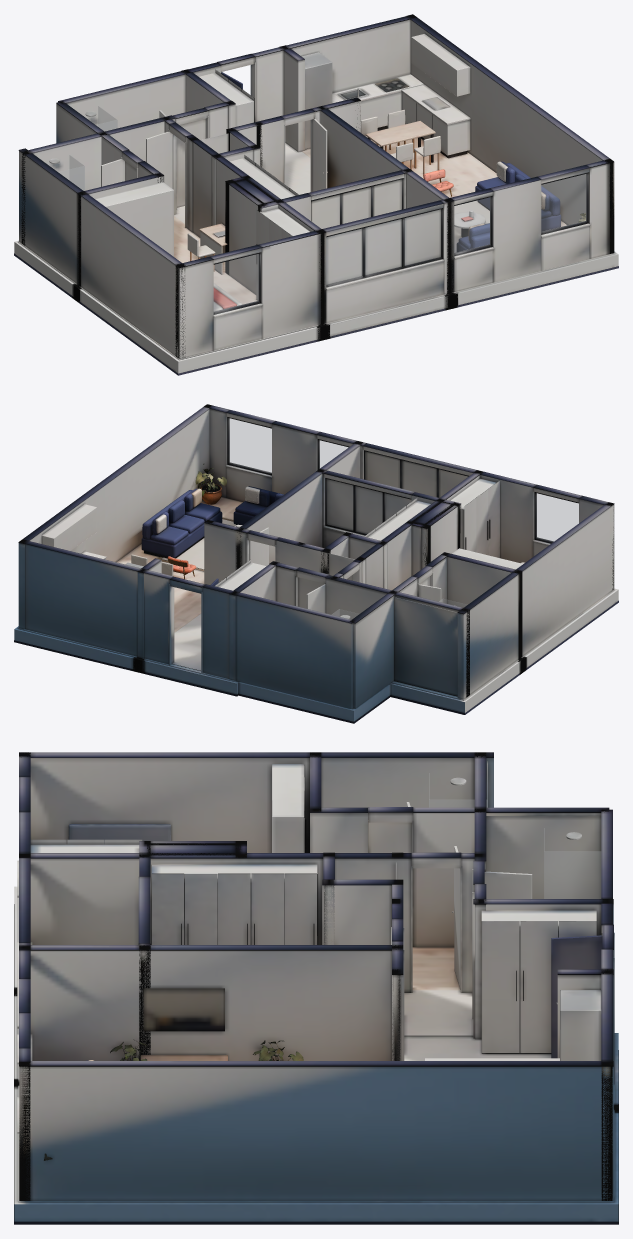
3 views of the same model, one above another, from view 1: azimuth 30°, elevation 25°; view 2: azimuth 150°, elevation 25°; view 3: azimuth 270°, elevation 25° (orthographic). The views are drawn at different scales.
Visible parts, largest first — view 1: plan, glass1_m, glass4_m, glass2_m, glass3_m; view 2: plan, glass0_m, glass4_m, glass2_m; view 3: plan, sg.002_m.
Part boxes in pixels (bbox=[...]): plan: bbox=[14, 14, 618, 375]; glass1_m: bbox=[327, 210, 440, 284]; glass4_m: bbox=[541, 174, 586, 231]; glass2_m: bbox=[214, 254, 258, 311]; glass3_m: bbox=[454, 197, 490, 253]; plan: bbox=[14, 404, 618, 723]; glass0_m: bbox=[327, 480, 410, 533]; glass4_m: bbox=[229, 418, 271, 472]; glass2_m: bbox=[536, 493, 578, 541]; plan: bbox=[14, 752, 618, 1224]; sg.002_m: bbox=[544, 851, 600, 898].
Bounding box in the file's own units: 11.4 × 2.62 × 9.18.
2 materials, 1 textured.
